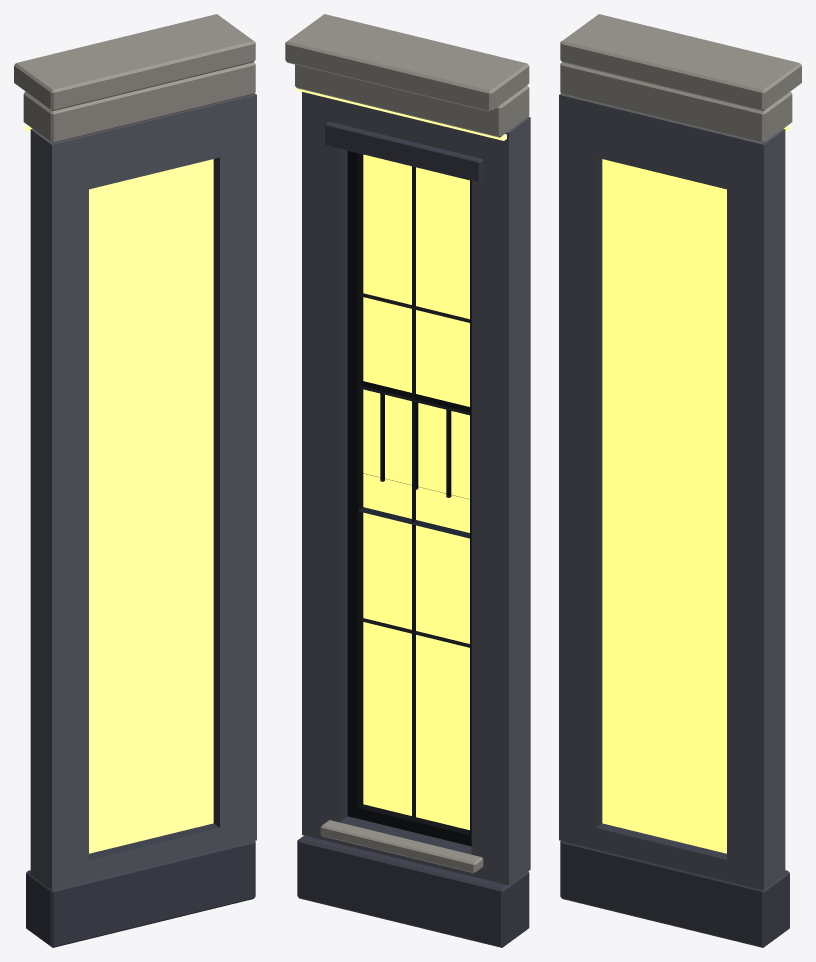
Rendered from lib_wall_arch.glb.
The picture shows the model from 3 angles, left to right: view 1: azimuth 30°, elevation 25°; view 2: azimuth 150°, elevation 25°; view 3: azimuth 330°, elevation 25°; orthographic projection.
Parts seen in each view (by area): view 1: wall; view 2: wall; view 3: wall.
Part boxes in pixels (left/top/right/bottom): wall: left=14, top=14, right=256, bottom=947; wall: left=285, top=14, right=530, bottom=947; wall: left=559, top=14, right=801, bottom=947.
Size of the model in its own units: 2 by 8 by 0.66.
